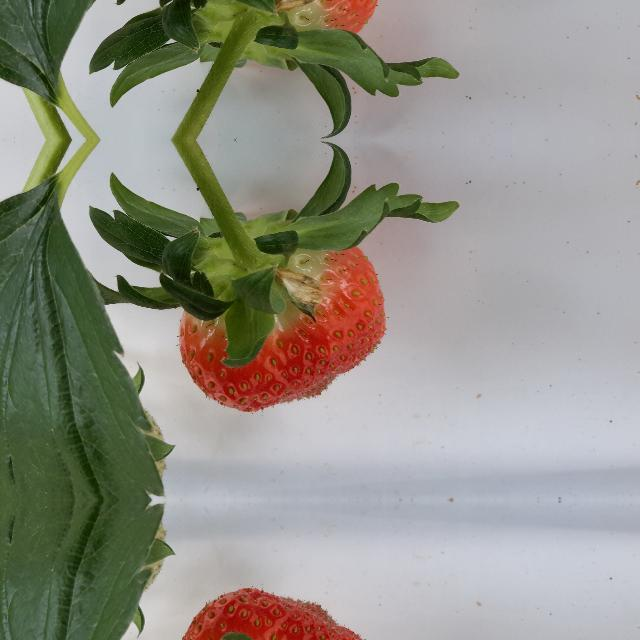Health_100: (176, 245, 388, 412), (176, 587, 387, 640), (176, 0, 387, 34)
